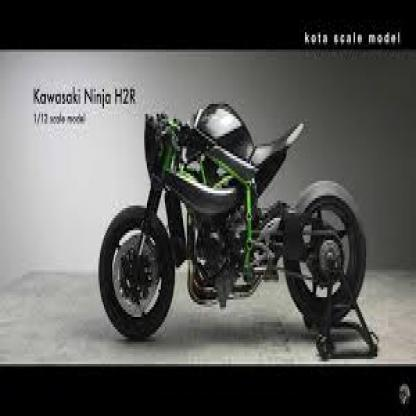Motorcycle: (87, 106, 376, 349)
